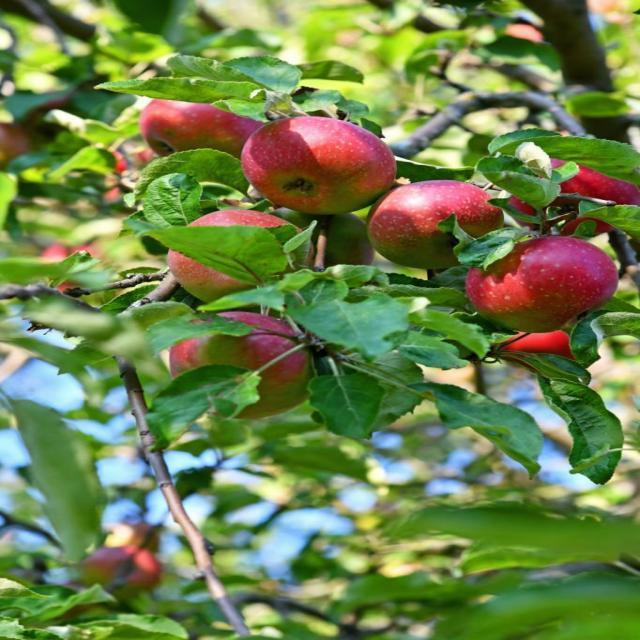Red Apple: (242, 115, 392, 215), (169, 315, 312, 413), (469, 237, 610, 323), (133, 79, 272, 165), (375, 174, 500, 265), (175, 204, 300, 293), (517, 154, 635, 240), (504, 322, 596, 365), (75, 544, 158, 589), (1, 116, 27, 174), (46, 240, 77, 287)
